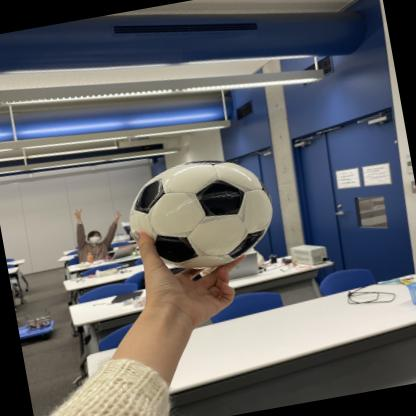ball: (122, 150, 275, 274)
